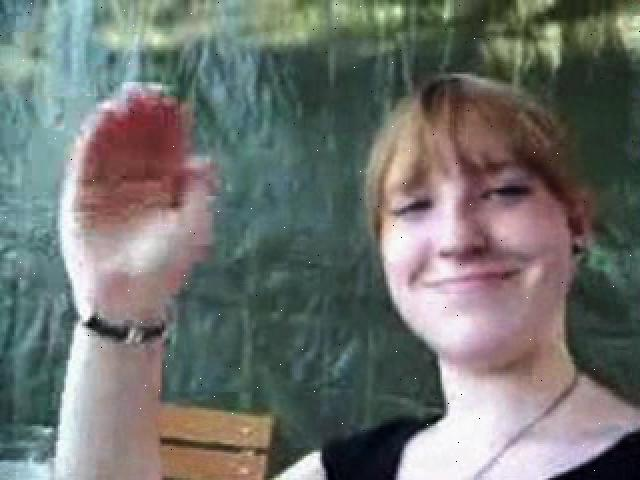T: (35, 68, 640, 475)
